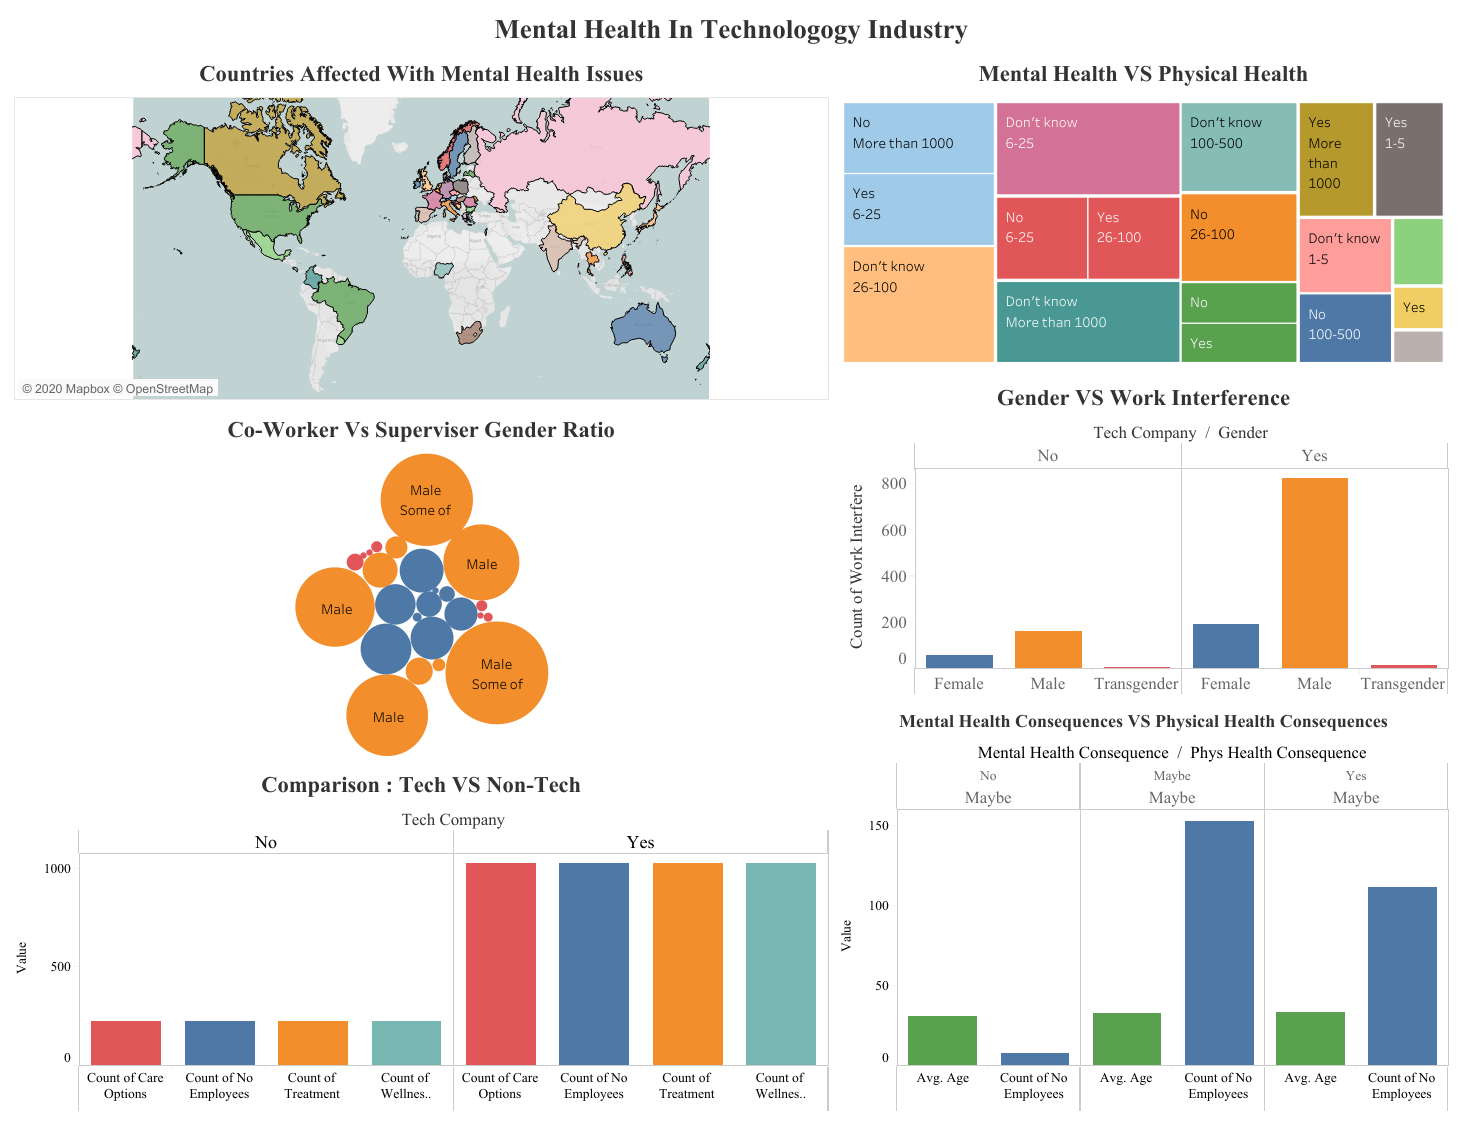

What the dashboard file says about the page in this screenshot:
{"tool":"tableau","page":{"name":"Mental Health In Technologogy Industry","canvas":[1300,1000],"ordinal":0},"visuals":[{"type":"worksheet","box":[0,0,1300,1000]},{"type":"worksheet","param":"horz","box":[8,8,1284,984]},{"type":"worksheet","param":"horz","box":[8,8,1284,984]},{"type":"worksheet","param":"horz","box":[8,8,1284,984]},{"type":"worksheet","param":"vert","box":[8,8,1284,984]},{"type":"worksheet","box":[8,8,1284,42]},{"type":"worksheet","param":"horz","box":[8,50,1284,942]},{"type":"worksheet","param":"vert","box":[8,50,1284,942]},{"type":"worksheet","param":"horz","box":[8,50,1284,942]},{"type":"worksheet","param":"horz","box":[8,50,1284,942]},{"type":"worksheet","box":[8,50,1284,942]},{"type":"worksheet","param":"vert","box":[8,50,733.4,942]},{"type":"worksheet","param":"horz","box":[8,50,733.4,942]},{"type":"worksheet","box":[8,50,733.4,942]},{"type":"worksheet","title":"Sheet 1","mark":"Multipolygon","box":[8,50,733.4,314]},{"type":"worksheet","title":"Sheet 4","mark":"Automatic","box":[741.4,50,550.6,286.4]},{"type":"worksheet","title":"Sheet 3","mark":"Automatic","rows":["work_interfere"],"cols":["tech_company","Gender"],"box":[741.4,336.4,550.6,286.4]},{"type":"worksheet","title":"Sheet 5","mark":"Circle","box":[8,364,733.4,314]},{"type":"worksheet","title":"Sheet 6","mark":"Automatic","cols":["mental_health_consequence","phys_health_consequence"],"box":[741.4,622.9,550.6,369.1]},{"type":"worksheet","title":"Sheet 2","mark":"Bar","cols":["tech_company"],"box":[8,678,733.4,314]}]}

Visuals, with their boxes in screenshot pixels (x1, y1, x2, y2), scaled from the page's 1300x1000 canvas onto the 1461x1124 screenshot:
worksheet: x1=0, y1=0, x2=1460, y2=1123
worksheet: x1=9, y1=9, x2=1452, y2=1115
worksheet: x1=9, y1=9, x2=1452, y2=1115
worksheet: x1=9, y1=9, x2=1452, y2=1115
worksheet: x1=9, y1=9, x2=1452, y2=1115
worksheet: x1=9, y1=9, x2=1452, y2=56
worksheet: x1=9, y1=56, x2=1452, y2=1115
worksheet: x1=9, y1=56, x2=1452, y2=1115
worksheet: x1=9, y1=56, x2=1452, y2=1115
worksheet: x1=9, y1=56, x2=1452, y2=1115
worksheet: x1=9, y1=56, x2=1452, y2=1115
worksheet: x1=9, y1=56, x2=833, y2=1115
worksheet: x1=9, y1=56, x2=833, y2=1115
worksheet: x1=9, y1=56, x2=833, y2=1115
"Sheet 1" worksheet (Multipolygon marks): x1=9, y1=56, x2=833, y2=409
"Sheet 4" worksheet: x1=833, y1=56, x2=1452, y2=378
"Sheet 3" worksheet: x1=833, y1=378, x2=1452, y2=700
"Sheet 5" worksheet (Circle marks): x1=9, y1=409, x2=833, y2=762
"Sheet 6" worksheet: x1=833, y1=700, x2=1452, y2=1115
"Sheet 2" worksheet (Bar marks): x1=9, y1=762, x2=833, y2=1115
